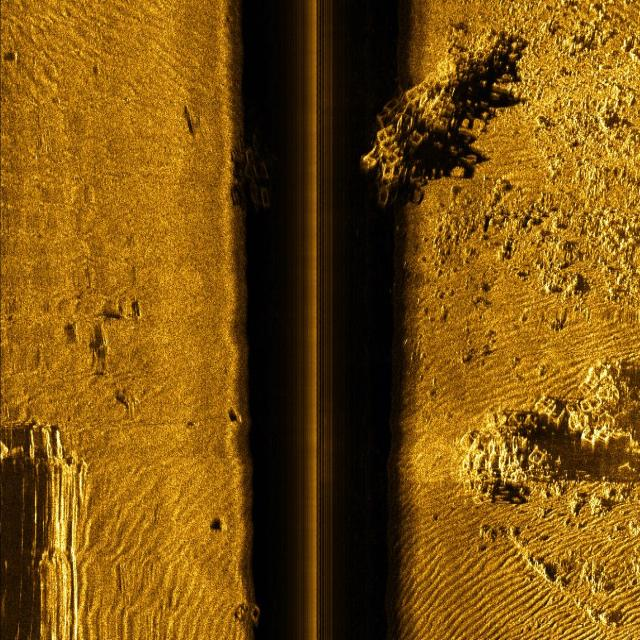artificial reef: (368, 14, 519, 205), (458, 370, 640, 517), (235, 108, 291, 217), (225, 579, 271, 635)
